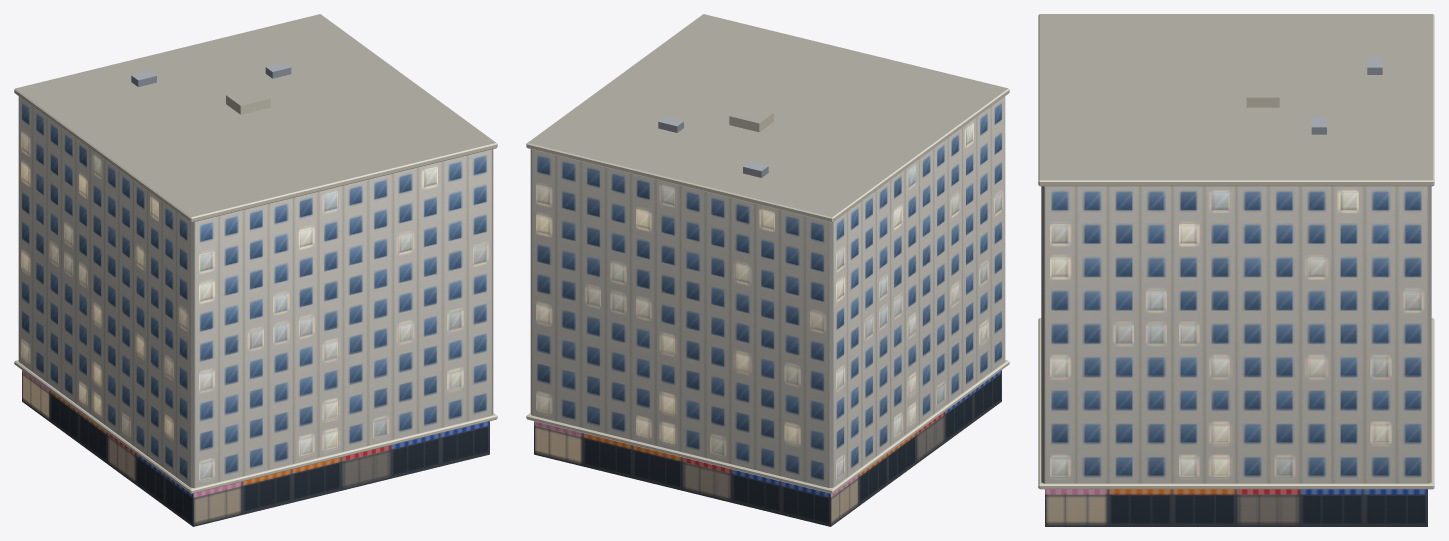
Rendered from building-36x36x36.glb.
The picture shows the model from 3 angles, left to right: view 1: azimuth 30°, elevation 25°; view 2: azimuth 150°, elevation 25°; view 3: azimuth 270°, elevation 25°; orthographic projection. The views are drawn at different scales.
Parts seen in each view (by area): view 1: building-36x36x36; view 2: building-36x36x36; view 3: building-36x36x36.
Boxes of the visible parts, x1=… form: building-36x36x36: x1=14, y1=14, x2=497, y2=526; building-36x36x36: x1=526, y1=14, x2=1009, y2=526; building-36x36x36: x1=1038, y1=14, x2=1434, y2=526.
Size of the model in its own units: 36 by 36 by 36.
1 material, 1 textured.
